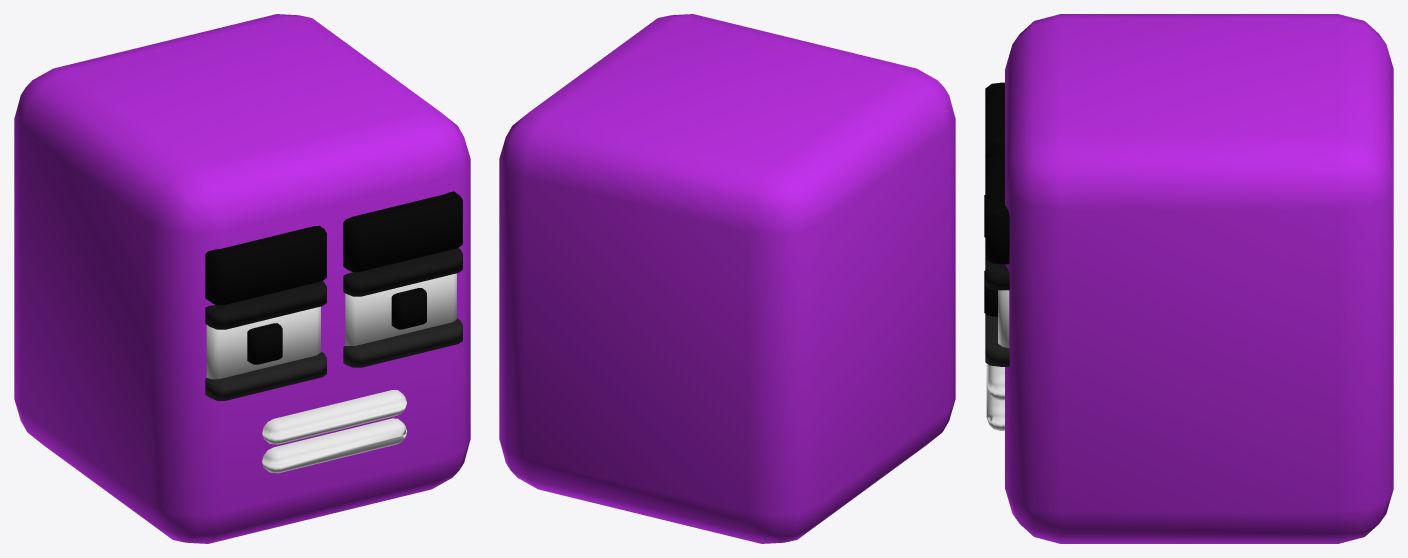
Rendered from head_1.glb.
3 views of the same model, side by side, from view 1: azimuth 30°, elevation 25°; view 2: azimuth 150°, elevation 25°; view 3: azimuth 270°, elevation 25° (orthographic). The views are drawn at different scales.
Visible parts, largest first — view 1: Head.001; view 2: Head.001; view 3: Head.001.
Part boxes in pixels (x1,y1,x2,y2): Head.001: [14, 14, 470, 543]; Head.001: [499, 14, 955, 543]; Head.001: [984, 14, 1393, 543].
Bounding box in the file's own units: 0.7 × 0.8 × 0.7377.
